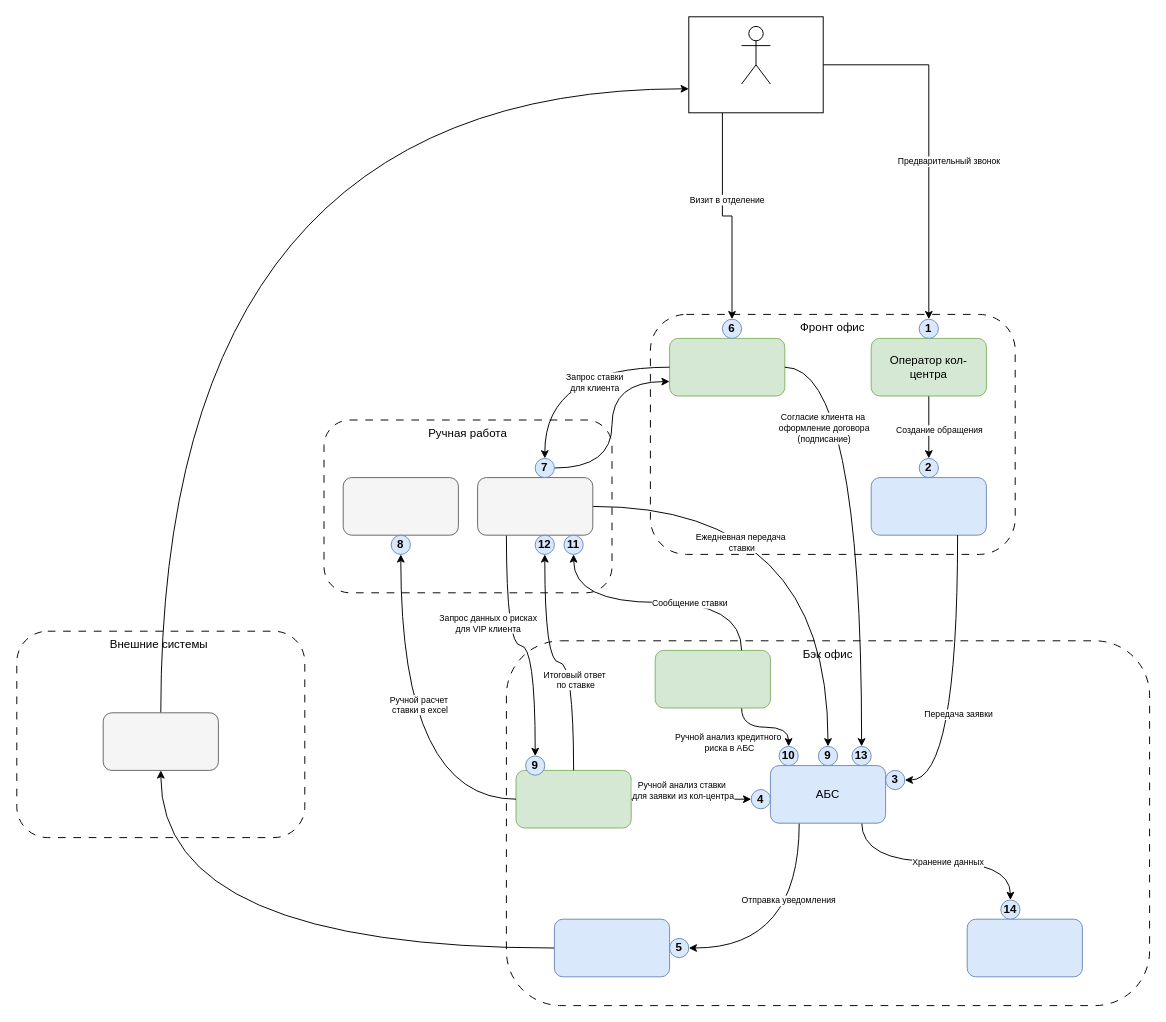
The diagram is 1166 pixels wide and 1022 high, and some of its shapes have lost their labels. Each missing label, with the centre of its shape:
Email: point 535,506
Excel: point 400,506
Oracle: point 1024,947
Клиент: point 755,54
СMC-шлюз: point 611,947
Система кол-центра: point 928,506
Сотрудник депозитного отдела: point 573,798
Сотрудник кредитного отдела: point 712,678
Сотрудник отделения: point 727,366
Телеком оператор: point 160,741
